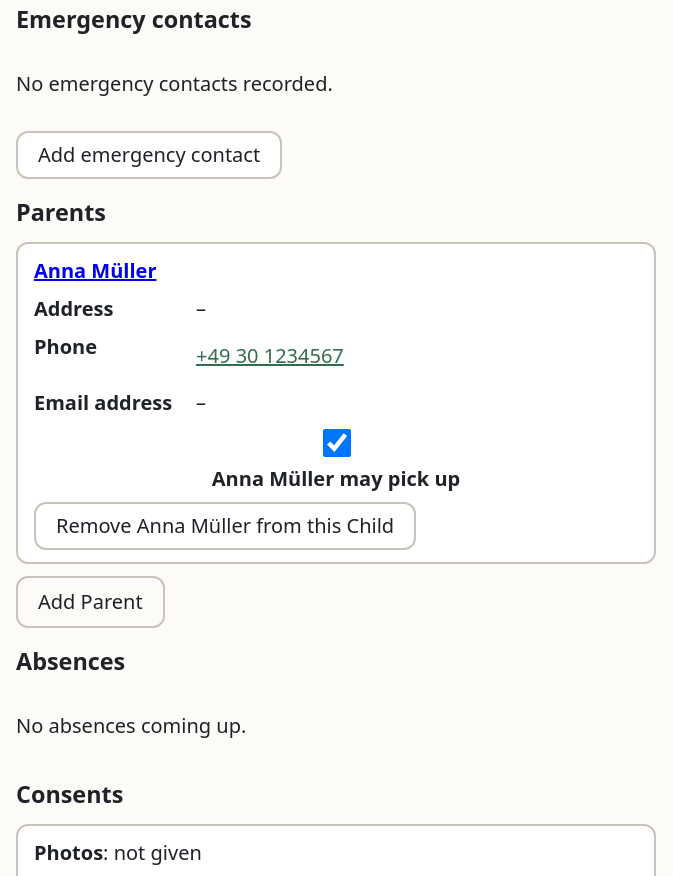
Scenario: Emergency contacts and Pick-up persons › lets an Admin say a Parent may not pick up
This screenshot has width=673, height=876.
(page scrolled)
Click the checkbox labelled "Anna Müller may pick up" at (336, 443), box [322, 429, 350, 457]
(page scrolled)
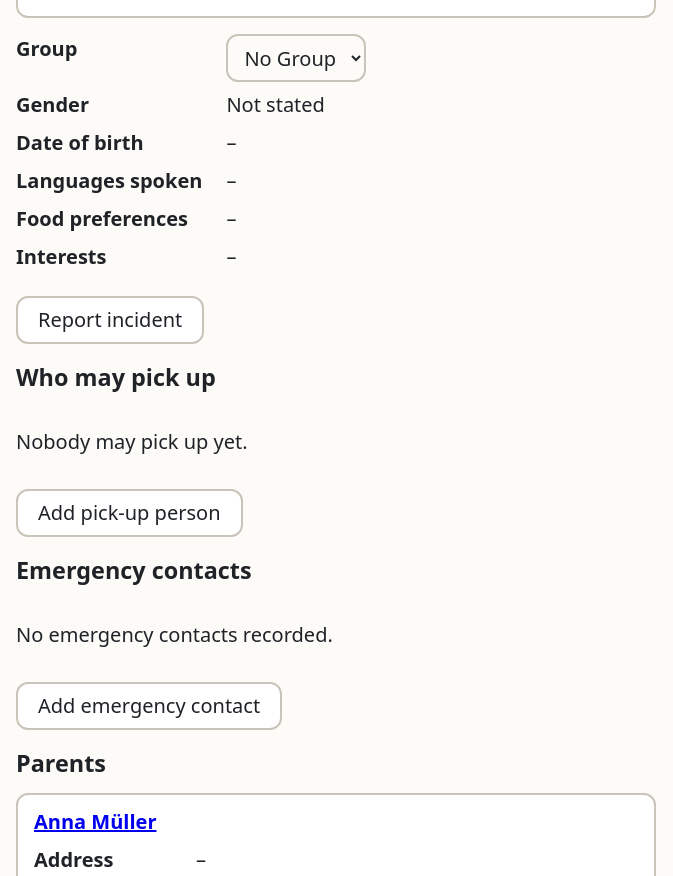
expect the text "Nobody may pick up yet." is shown: met, box [16, 427, 248, 457]
